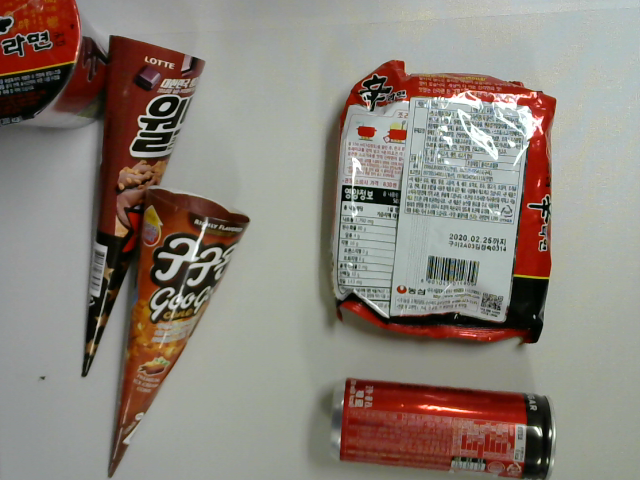Coca_Cola_Zero_Can_250ml: (318, 374, 559, 480)
GooGoo_Cone_CVS: (97, 188, 252, 480)
Sinramen: (326, 57, 557, 355)
Sinramen_small: (1, 1, 125, 136)
World_Cone_Choco: (71, 33, 213, 387)
